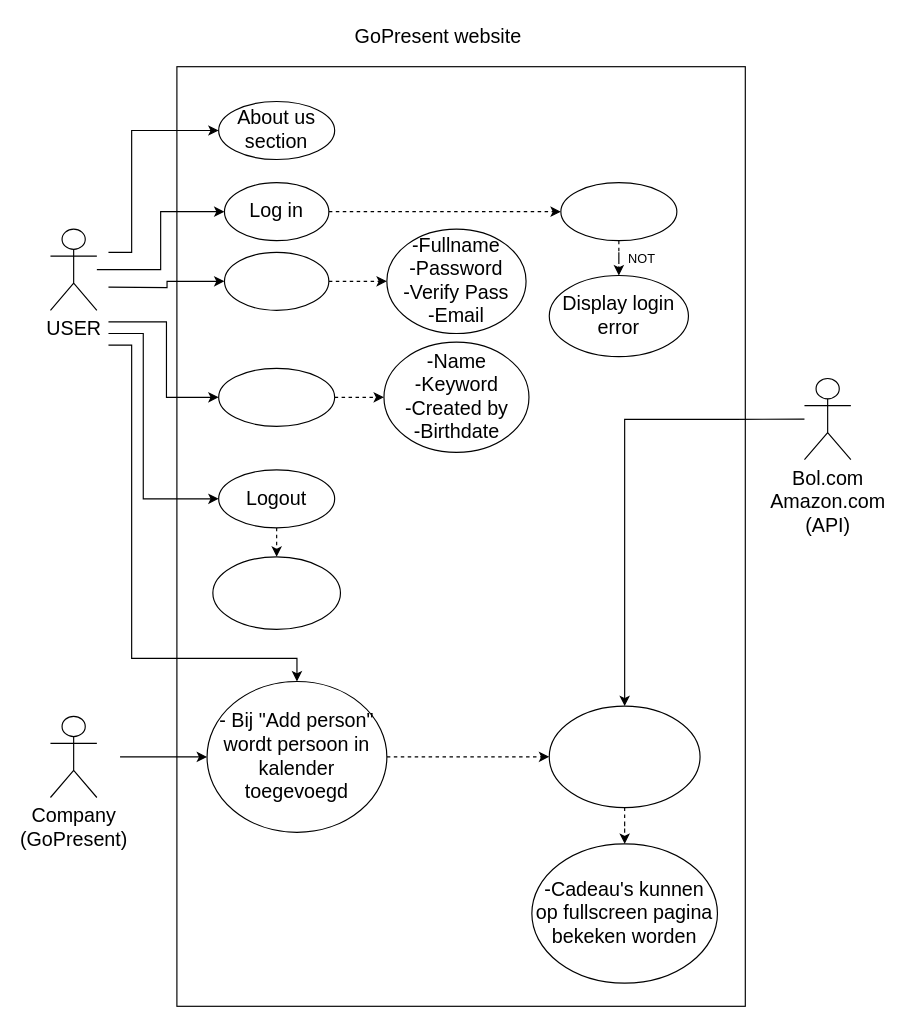
Image size: 905x1027. Some labels were removed from this diagram. Each missing label, with the centre of its shape:
"-Cadeau voorstellen voor toegevoegd persoon" goes at pixel 624 756.
"Add person" goes at pixel 276 396.
"Register" goes at pixel 276 280.
"Return to homepage" goes at pixel 276 592.
"Verify Password" goes at pixel 618 211.
